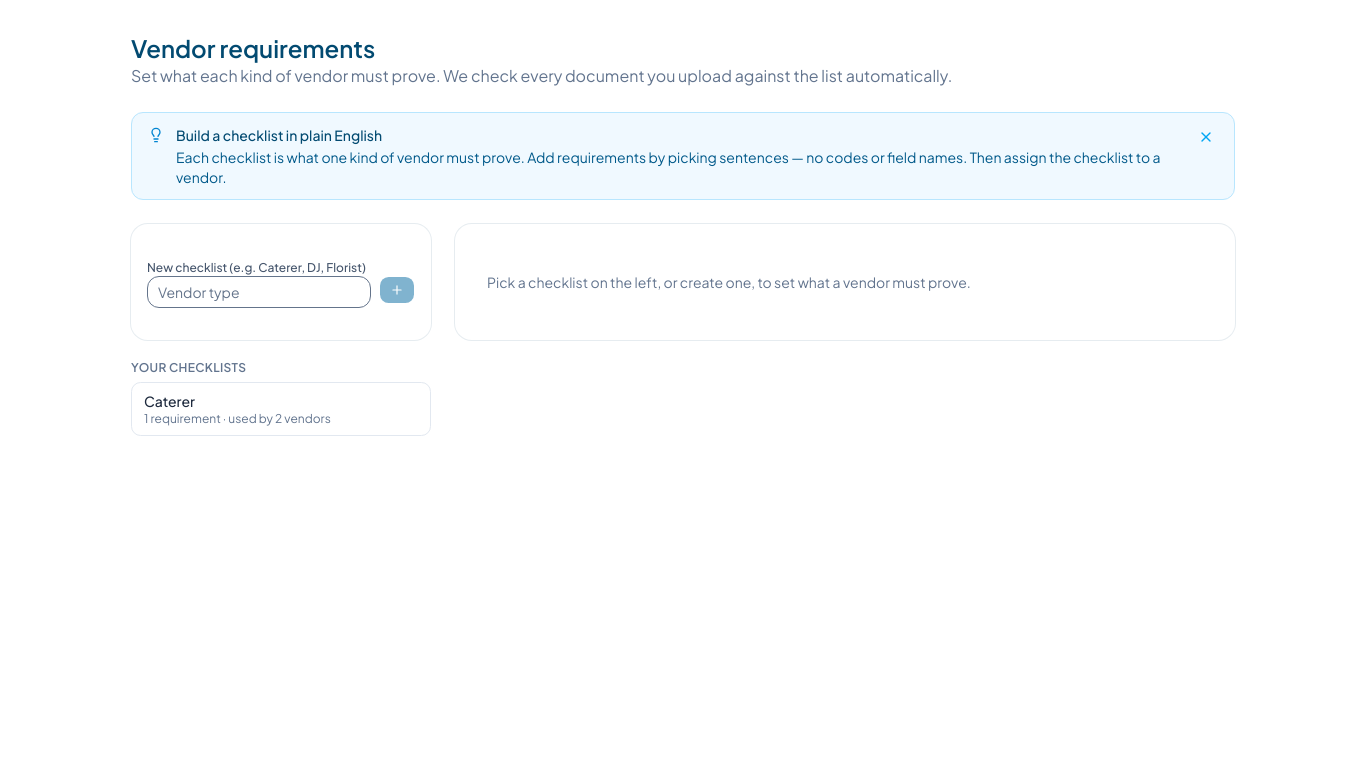
Scenario: RulesPage — plain-English authoring (#192) › the money field uses a numeric keyboard and disables Add until an amount is entered (gap #21)
This screenshot has width=1366, height=758.
Click the button "Caterer 1 requirement · used by 2 vendors": (281, 409) 131,382 -> 431,436
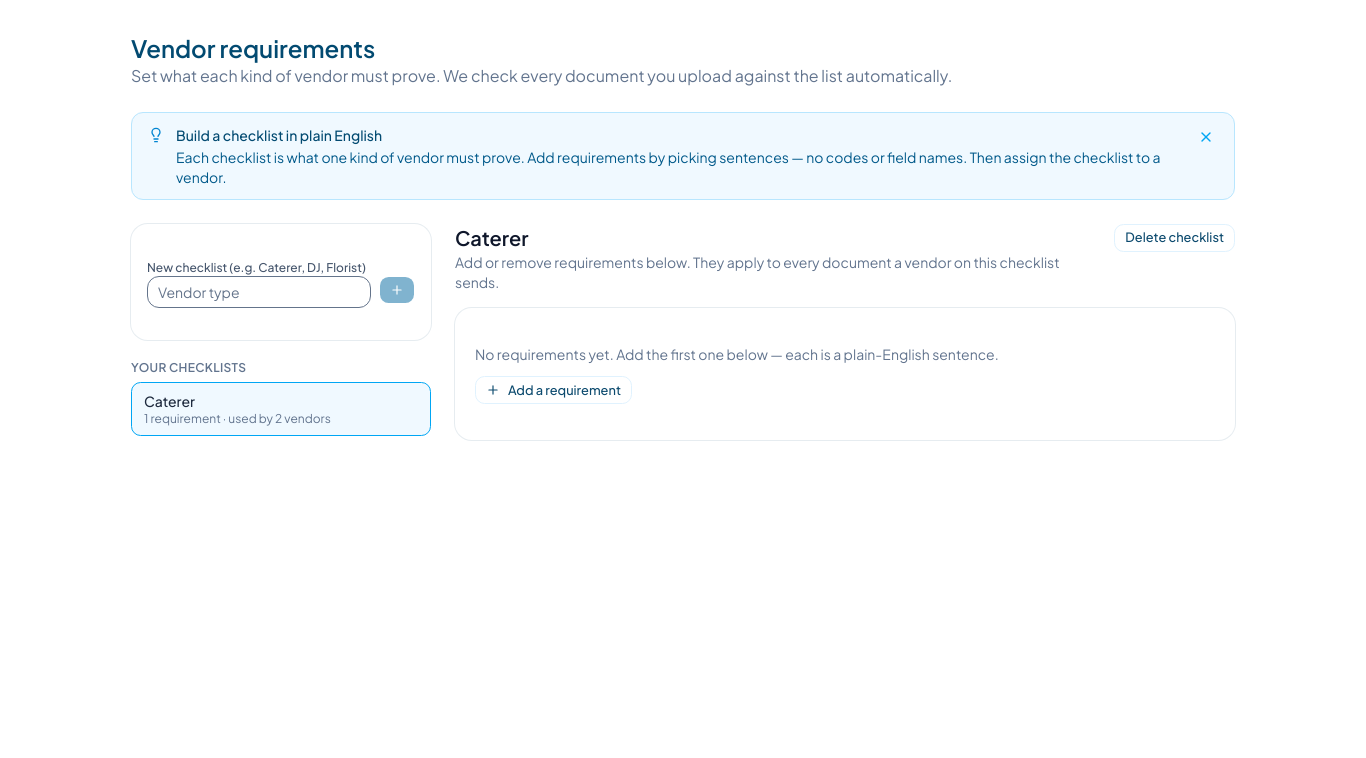
expect the heading "Caterer" is shown: met, box 455,225 -> 529,250
Click the button "Add a requirement": (554, 390) 475,376 -> 632,404
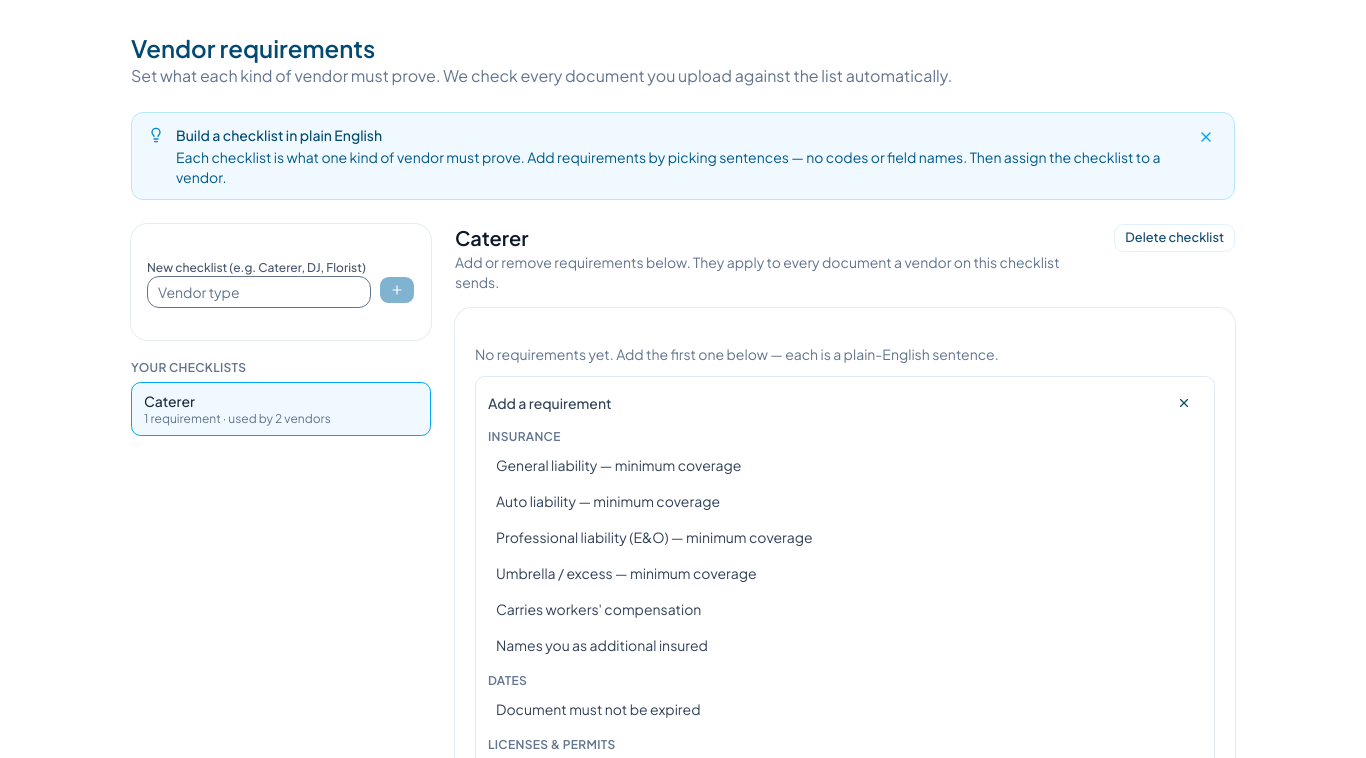
Click the button "General liability — minimum coverage": (619, 465) 488,449 -> 1202,481
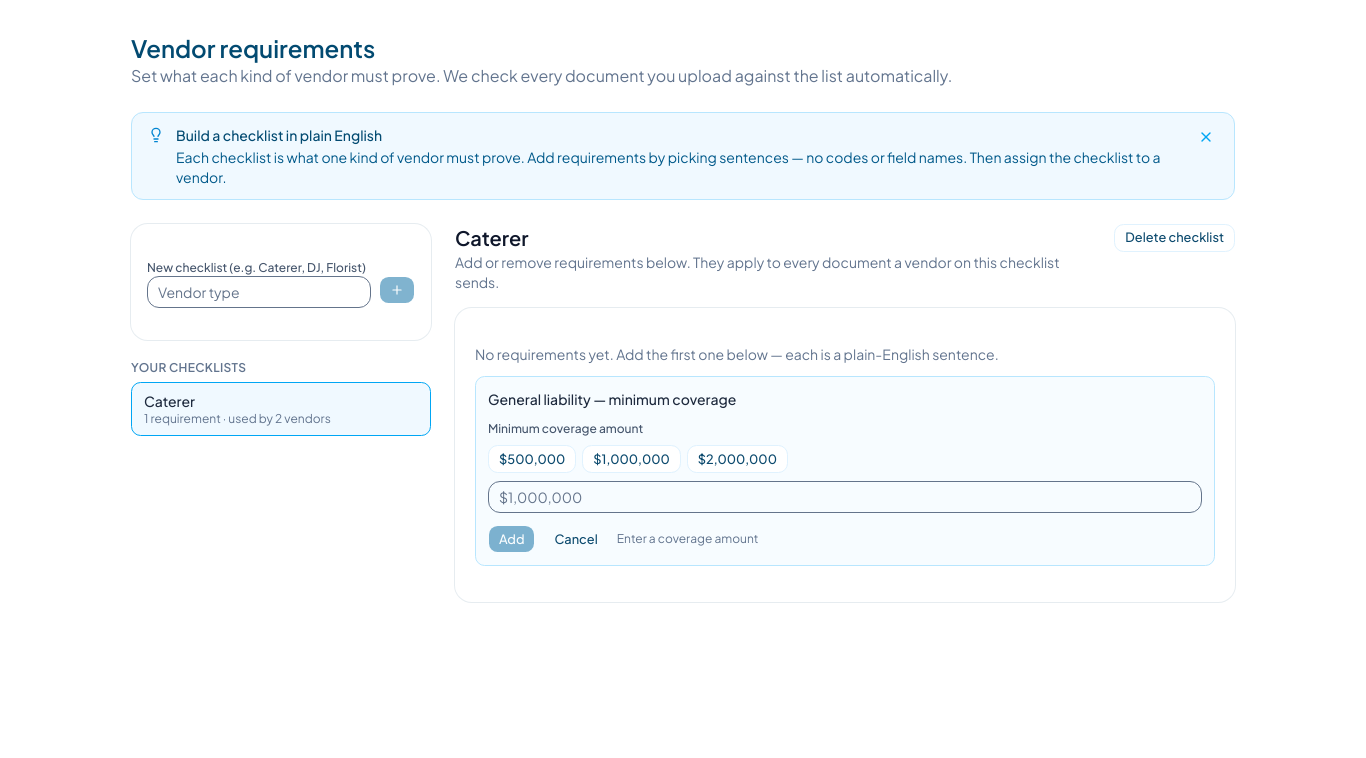
expect the button "Add" is disabled: met, box 488,525 -> 536,553
expect the text "Enter a coverage amount" is shown: met, box 617,531 -> 758,547
In the field labelled "Minimum coverage amount": (845, 497) 488,481 -> 1202,513, type "2000000"
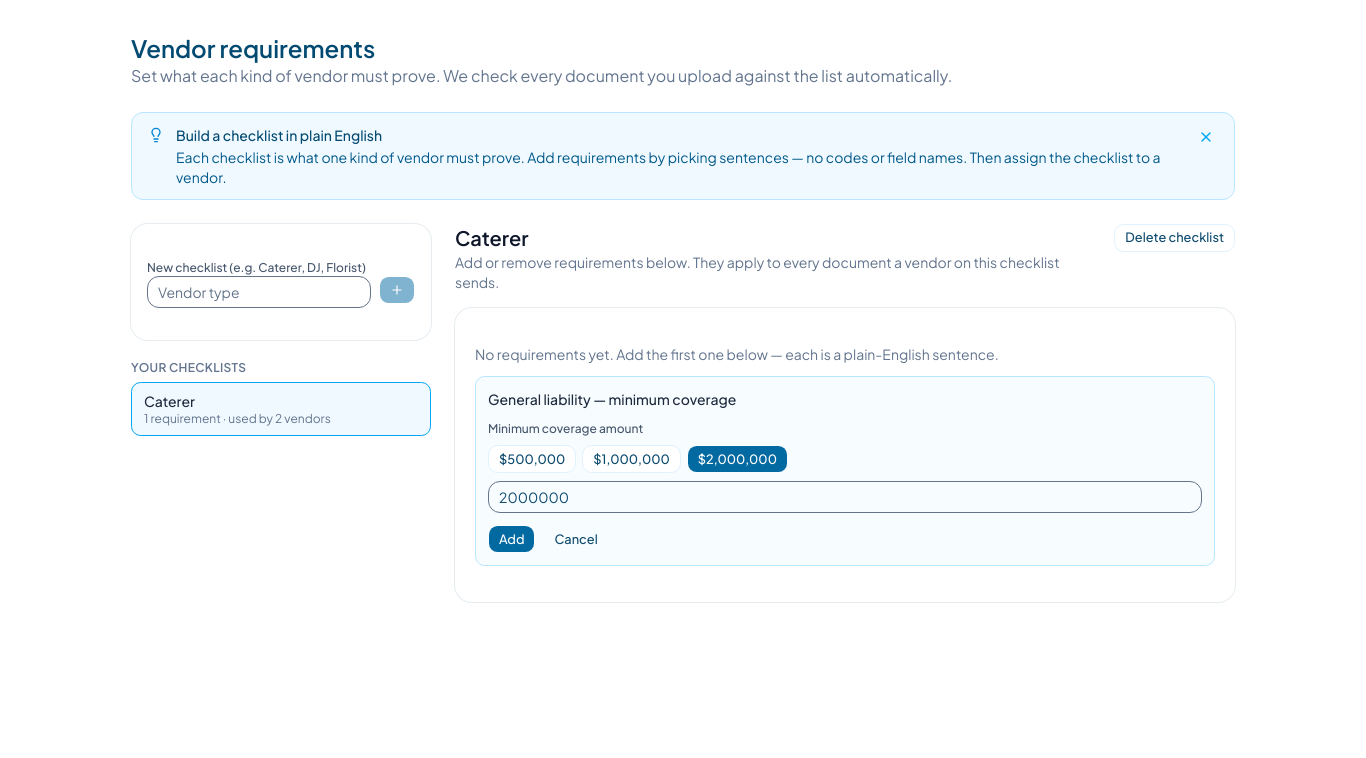
expect the button "Add" is enabled: met, box 488,525 -> 536,553
